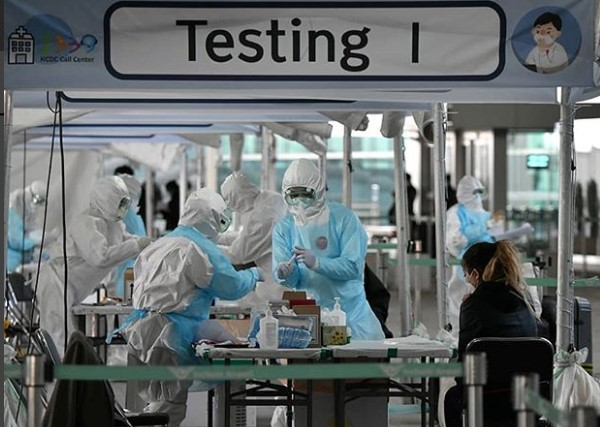face_with_mask: (280, 160, 330, 222), (462, 243, 508, 294), (184, 188, 228, 240), (94, 175, 130, 224), (459, 173, 486, 215), (30, 181, 51, 215)
